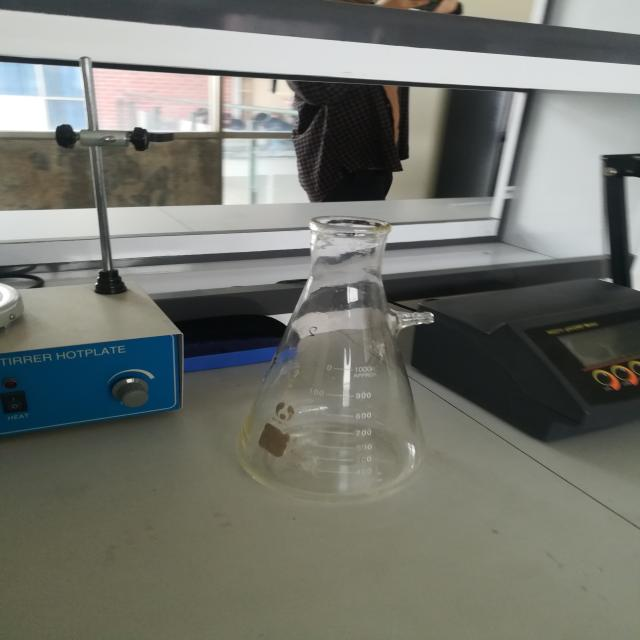Conical_Flask: (213, 184, 478, 529)
